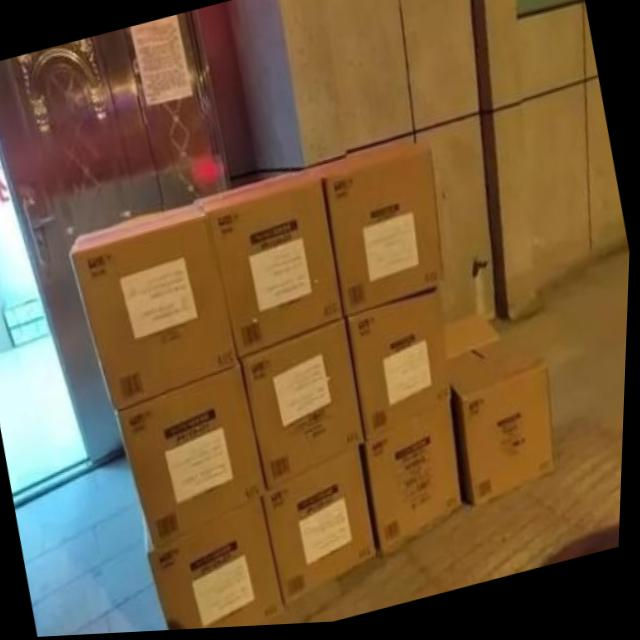box: (72, 204, 242, 414), (196, 173, 346, 363), (117, 366, 271, 548), (301, 145, 445, 321), (448, 317, 560, 513), (244, 321, 368, 491), (147, 500, 291, 632), (266, 451, 381, 610), (348, 291, 454, 447), (365, 404, 467, 557)
